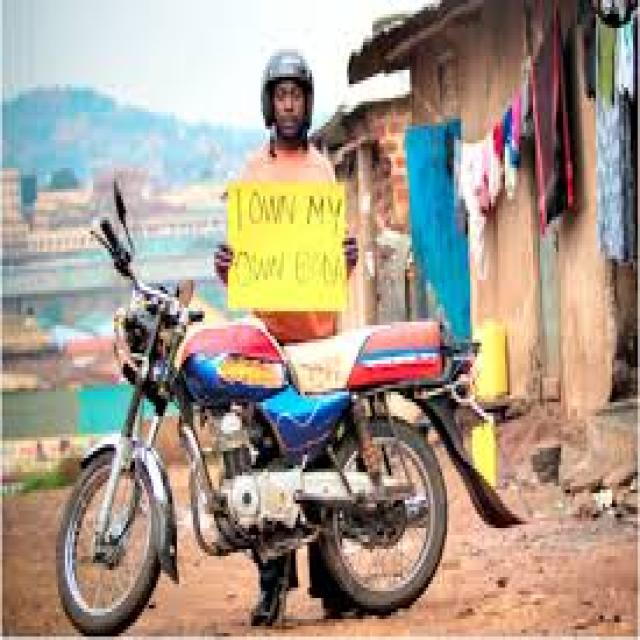bodaboda: (27, 156, 547, 640)
